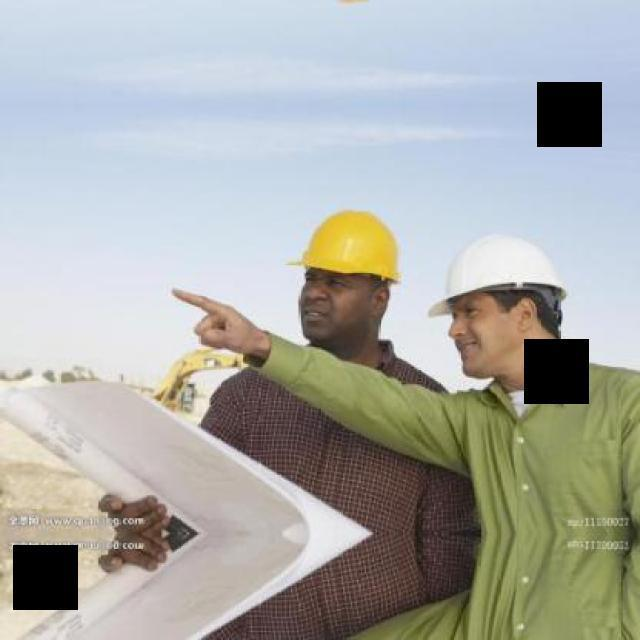white helmet: (421, 224, 571, 319)
yellow helmet: (284, 199, 401, 283)
